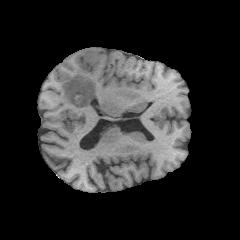glioma: (61, 54, 102, 107)
